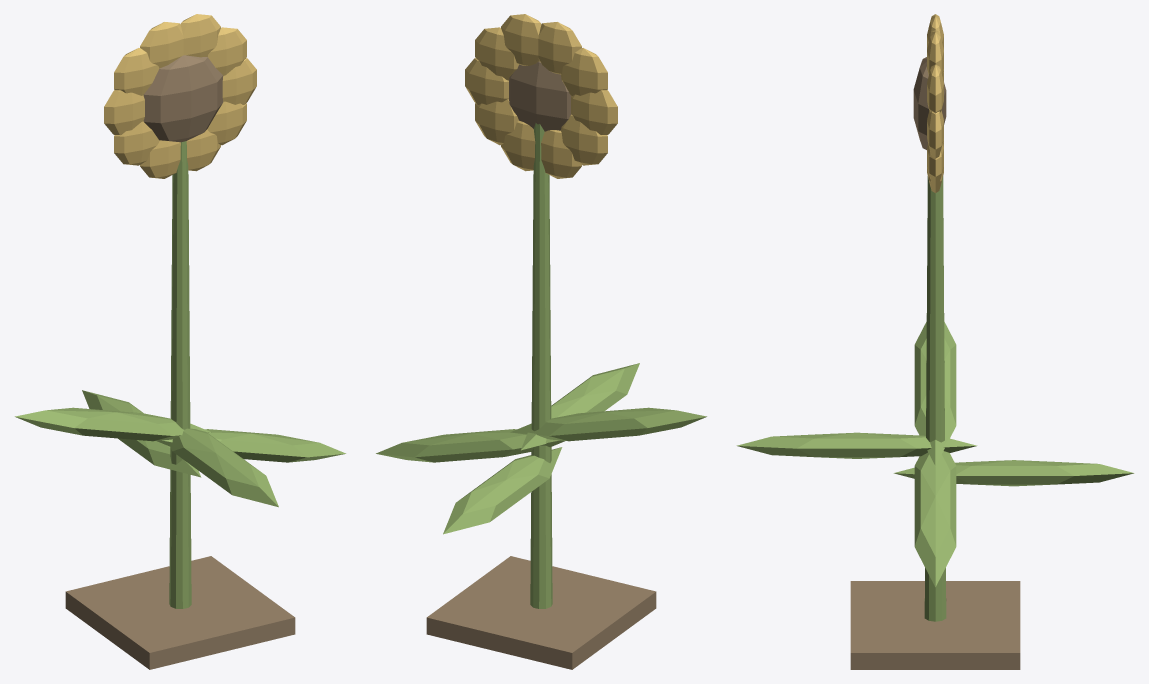
Rendered from cozy-farm-and-homestead-sunflower-mature-54f01976__19392.glb.
The picture shows the model from 3 angles, left to right: view 1: azimuth 30°, elevation 25°; view 2: azimuth 150°, elevation 25°; view 3: azimuth 270°, elevation 25°; orthographic projection.
Visible parts, largest first — view 1: sunflower-mature; view 2: sunflower-mature; view 3: sunflower-mature.
Part boxes in pixels (x1=…): sunflower-mature: x1=15, y1=14, x2=345, y2=669; sunflower-mature: x1=376, y1=14, x2=706, y2=669; sunflower-mature: x1=736, y1=14, x2=1134, y2=669.
Size of the model in its own units: 1.03 by 1.78 by 1.06.
